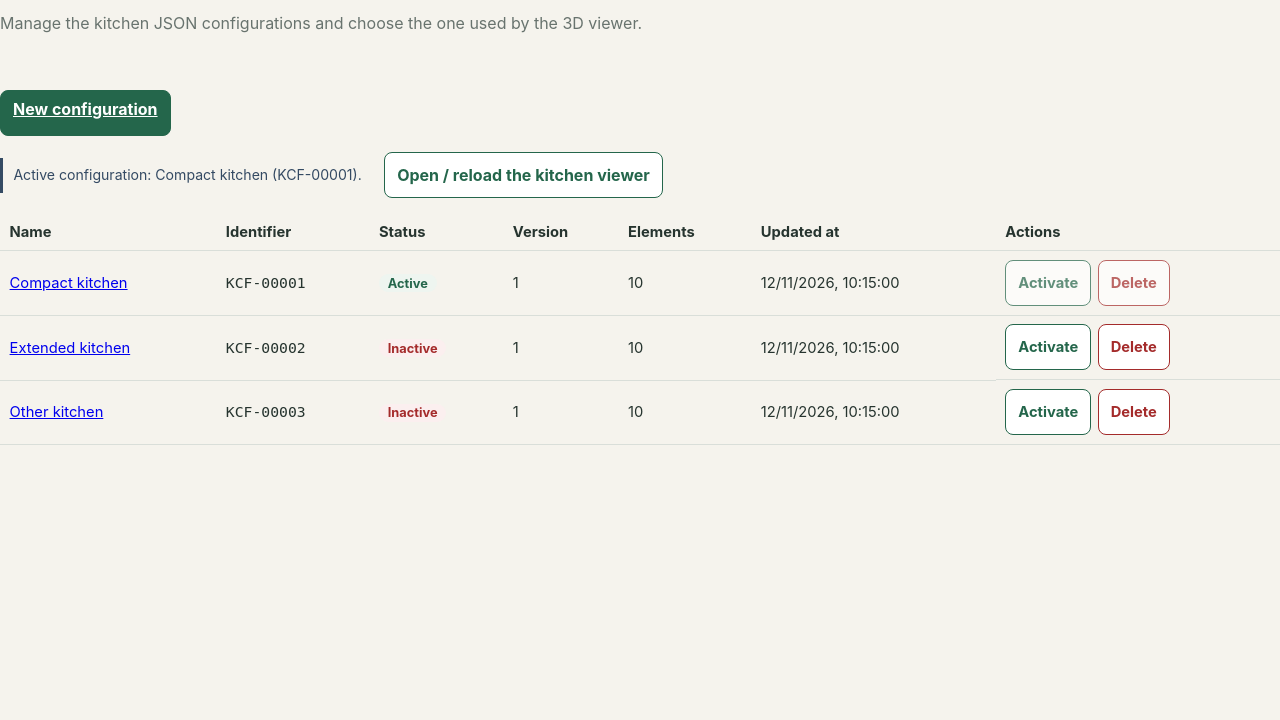
it: WEB06 KitchenConfigurationListPage › FT07 - delete disabled for the active row; inactive deleted; a 409 keeps the row
Expected: the 1st button "Delete" is disabled, [1098,260,1170,306]
Click the button "Delete" in the row of "Extended kitchen" at (1134, 347), box [1098,324,1170,370]
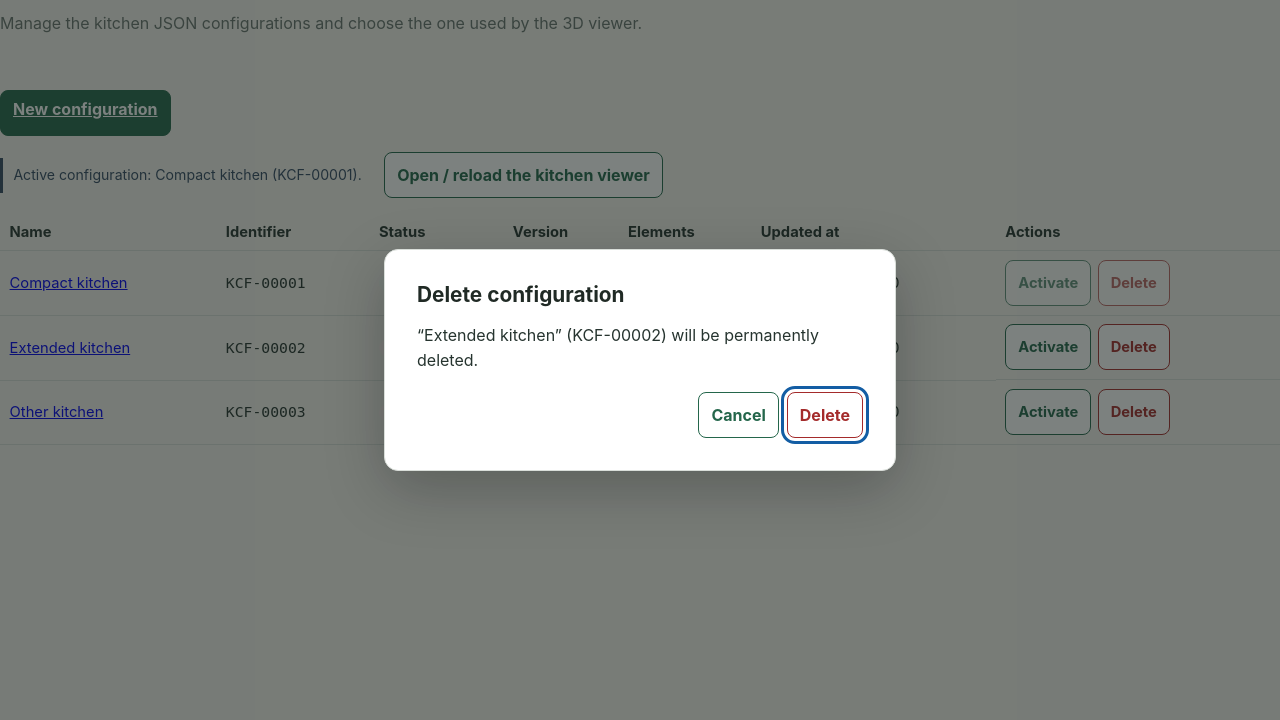
Click the button with class "button--danger" showing "Delete" at (825, 415), box [787,392,863,438]
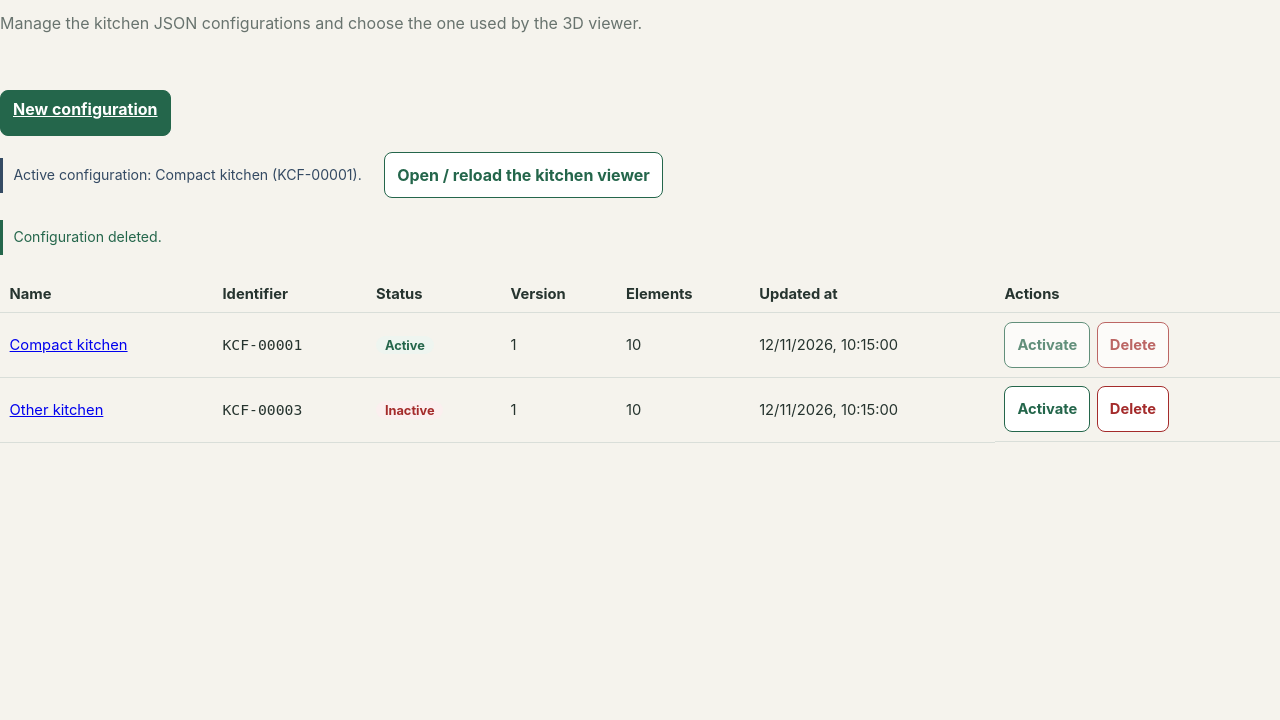
Now the text "Configuration deleted." is shown, box [0,220,1279,255]
Click the button "Delete" in the row of "Other kitchen" at (1133, 409), box [1097,386,1169,432]
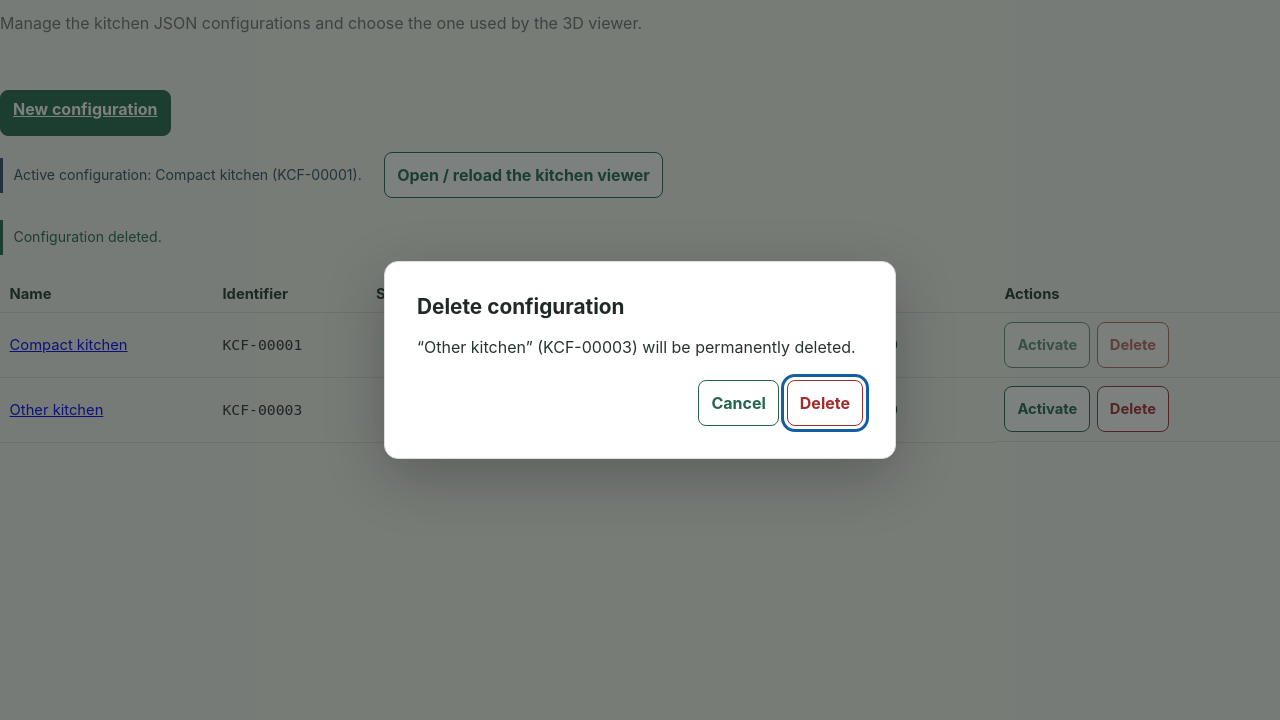
Click the button with class "button--danger" showing "Delete" at (825, 403), box [787,380,863,426]
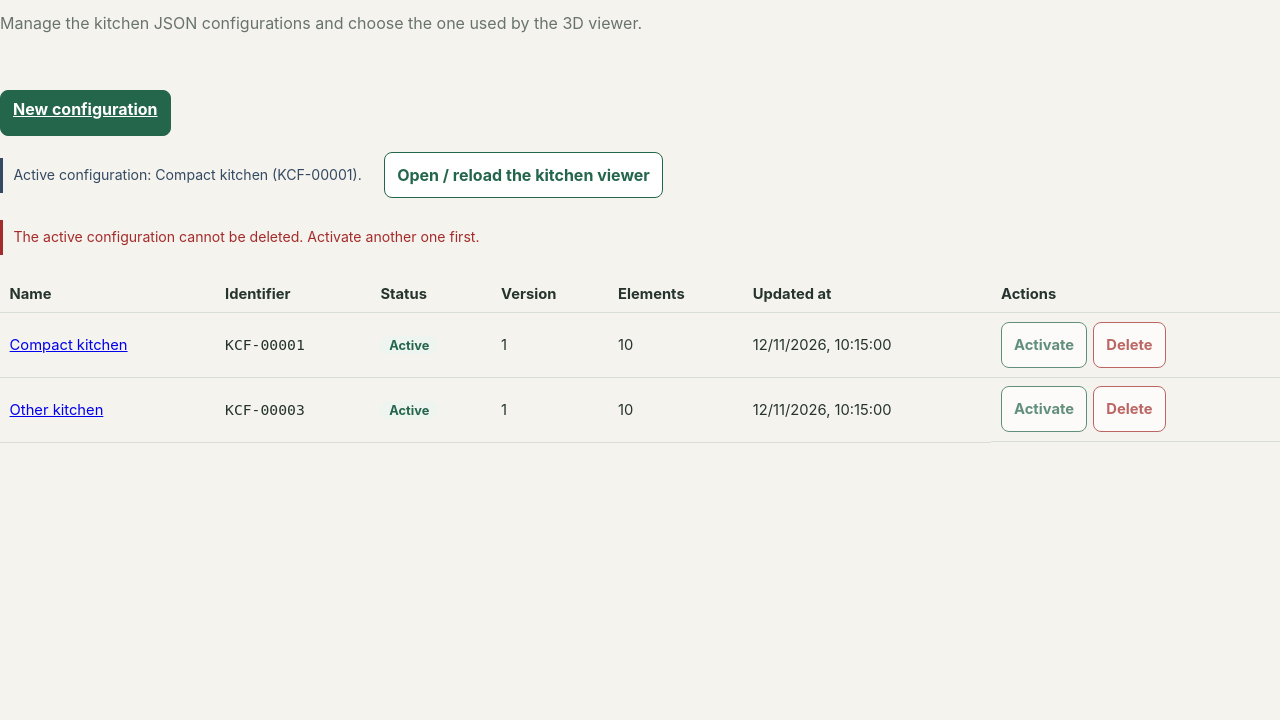
Now the text "The active configuration cannot be deleted." is shown, box [13,228,480,245]
